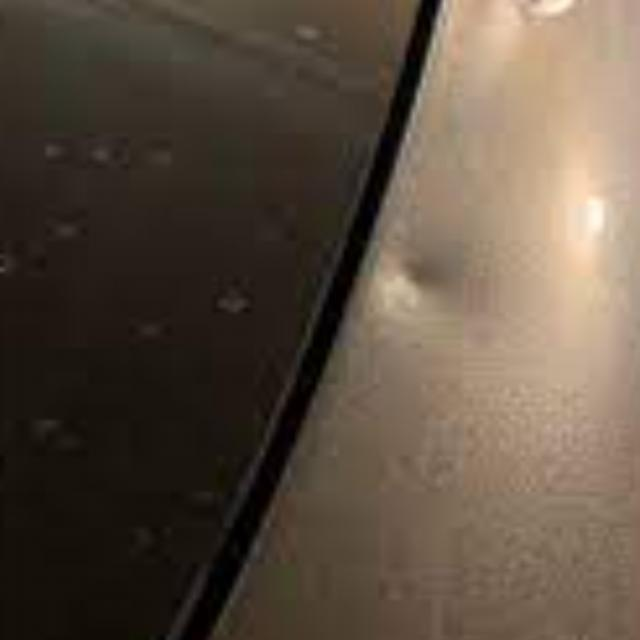dents: (376, 224, 466, 327)
